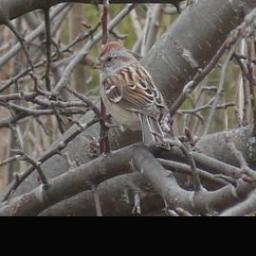Sparrow: (91, 41, 170, 151)
